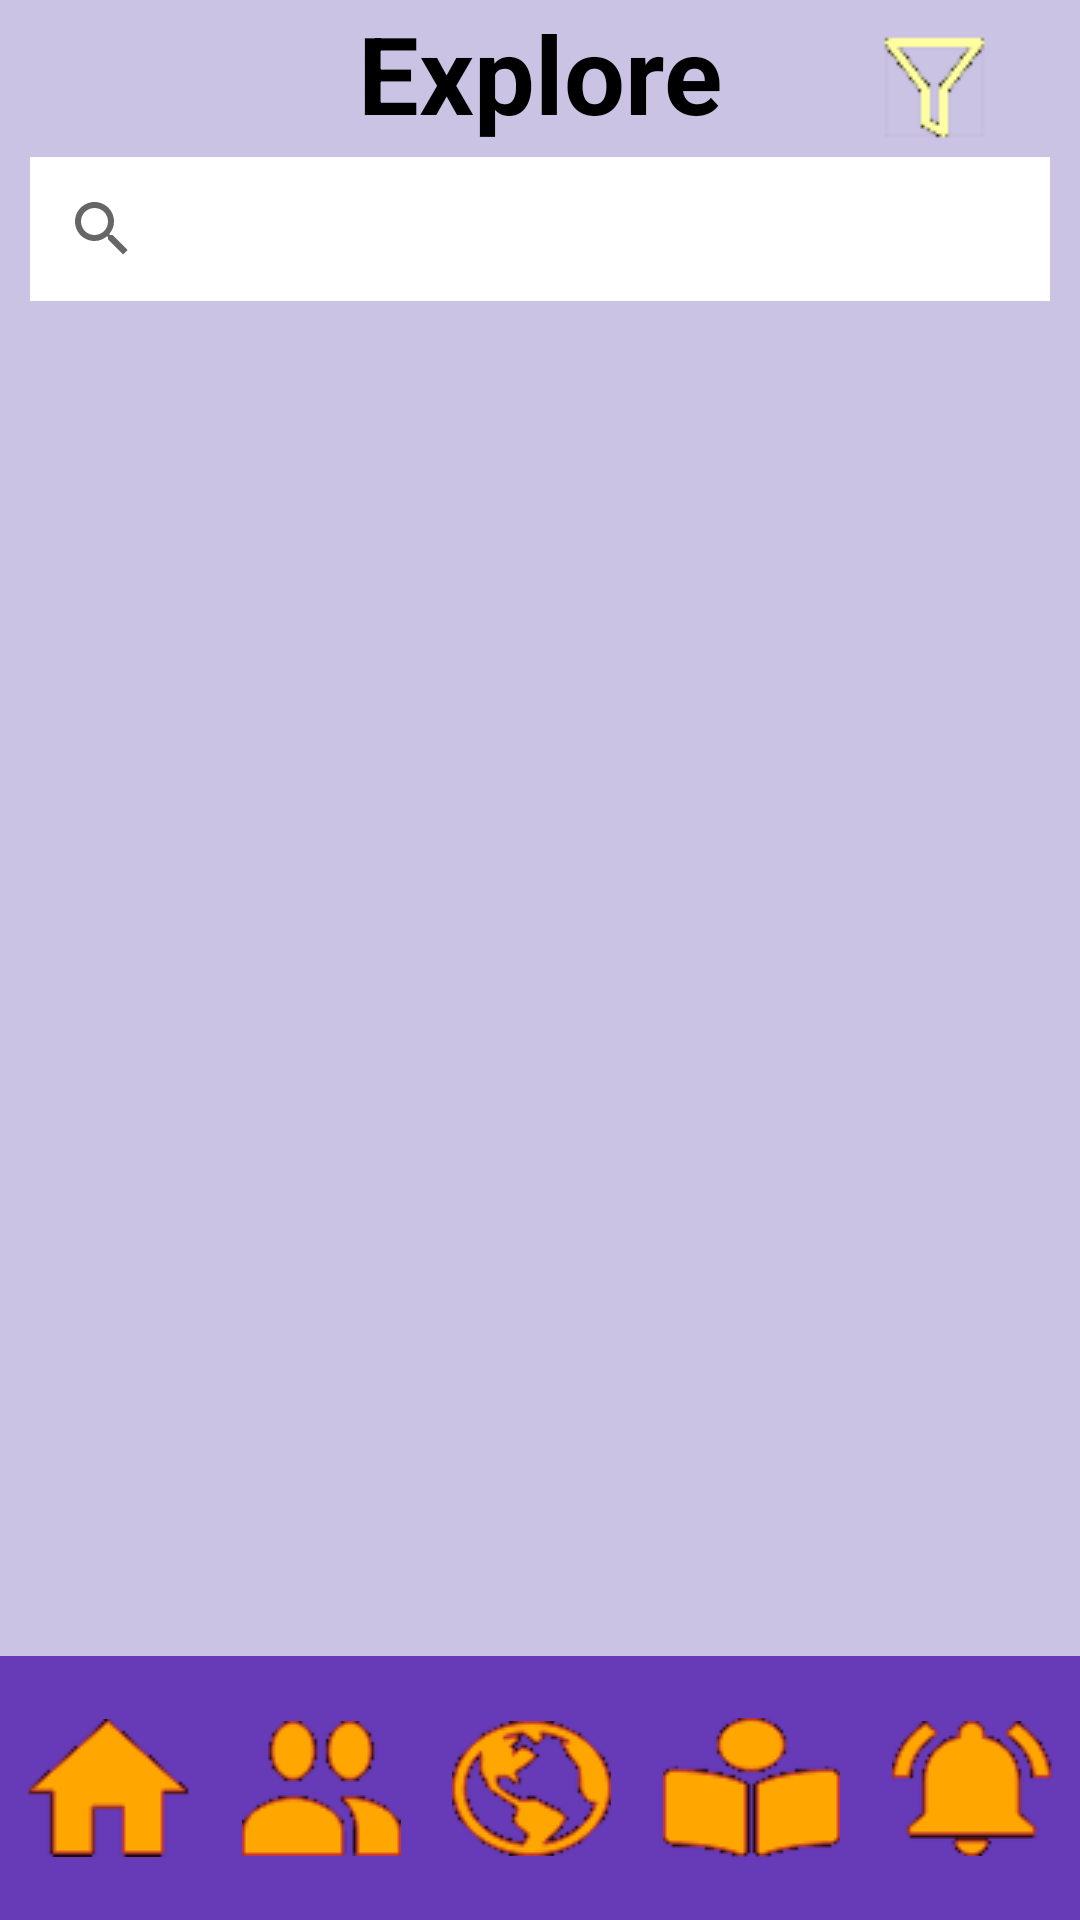

Icon bounding boxes for this 1080 × 1920 phone screenshot, format BBox(x1, y1, x2, y2):
cookbookicon: BBox(663, 1718, 840, 1857)
exploreicon: BBox(452, 1721, 611, 1856)
filter: BBox(884, 37, 985, 138)
homeorange: BBox(28, 1719, 189, 1857)
notification: BBox(892, 1721, 1052, 1856)
socialicon: BBox(242, 1721, 401, 1856)
